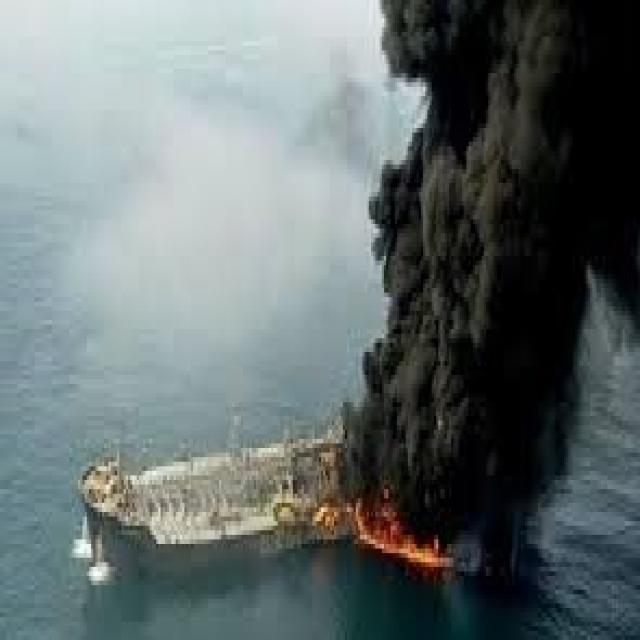cargoship: (79, 413, 360, 550)
